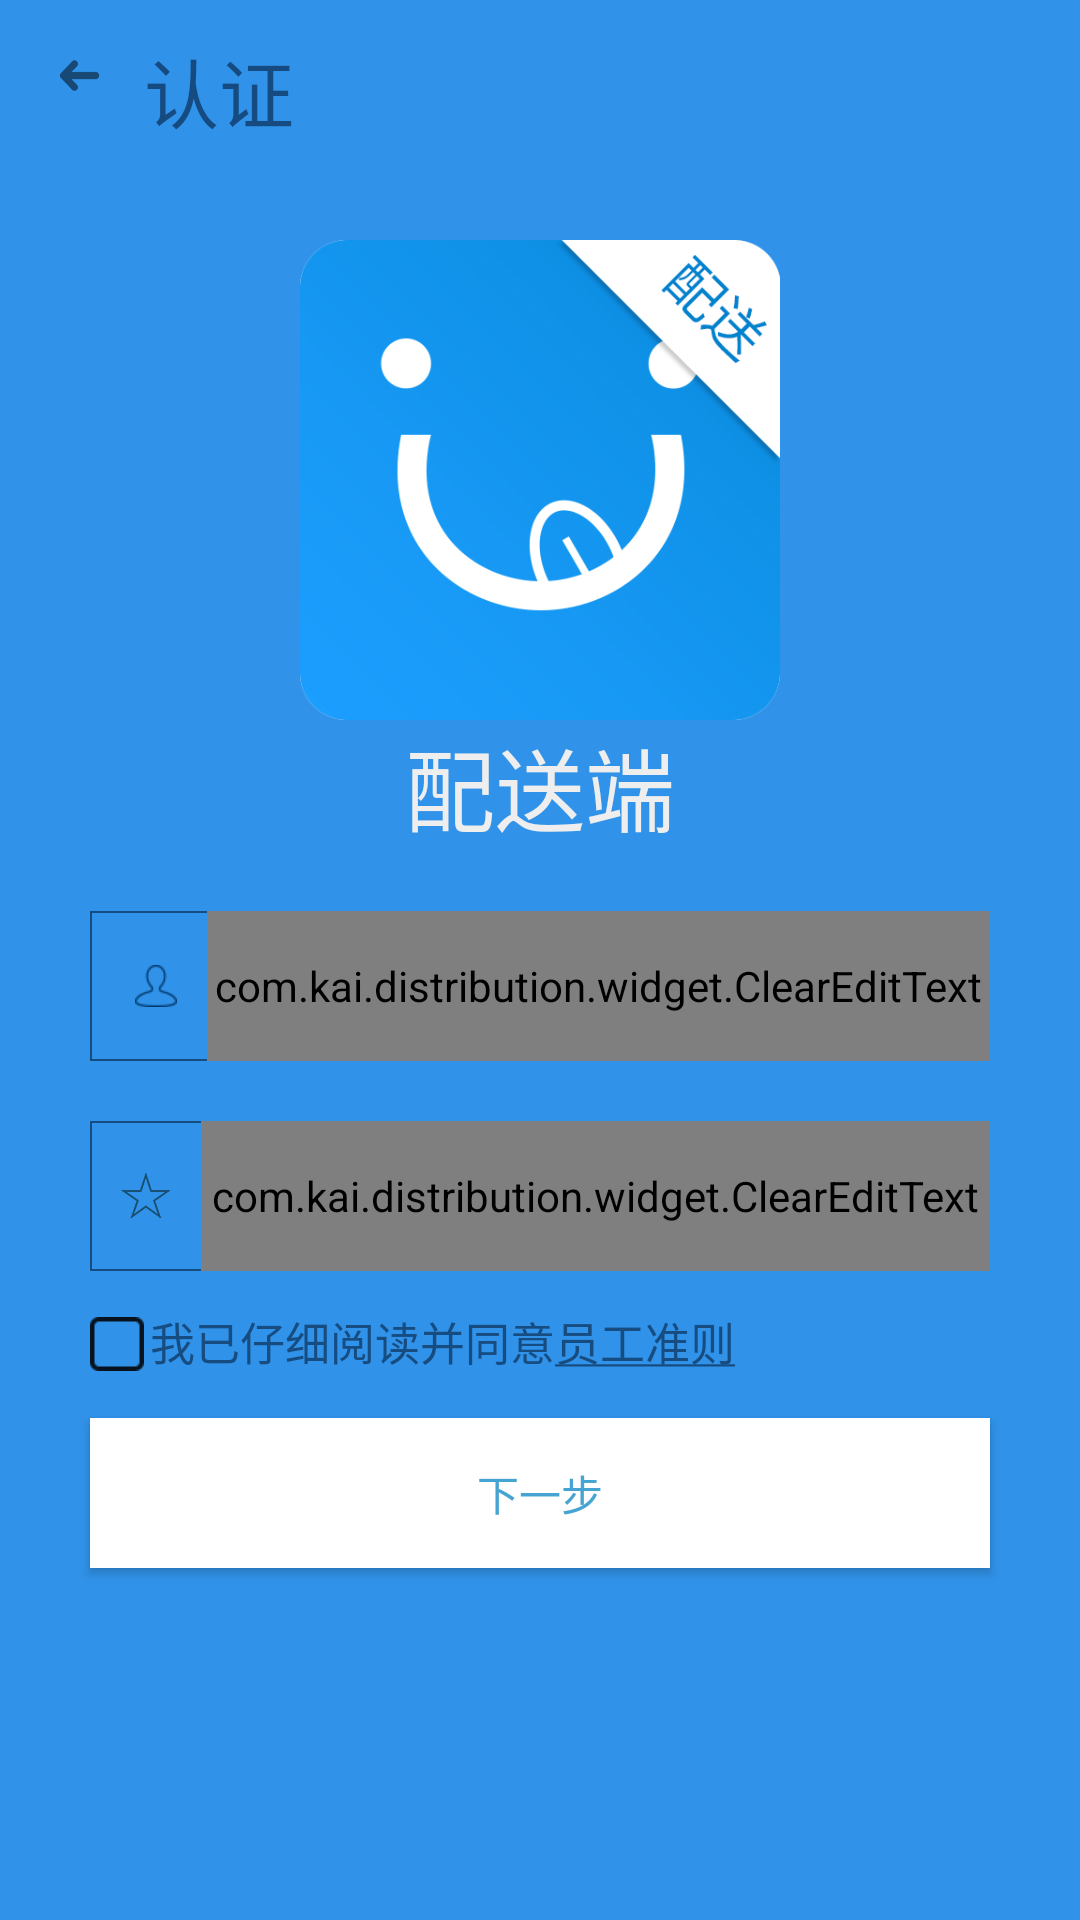

Point at icon controls on the screen. Image size 1080*1920, points as (x,y).
arrow left: (79,75)
star: (145,1195)
